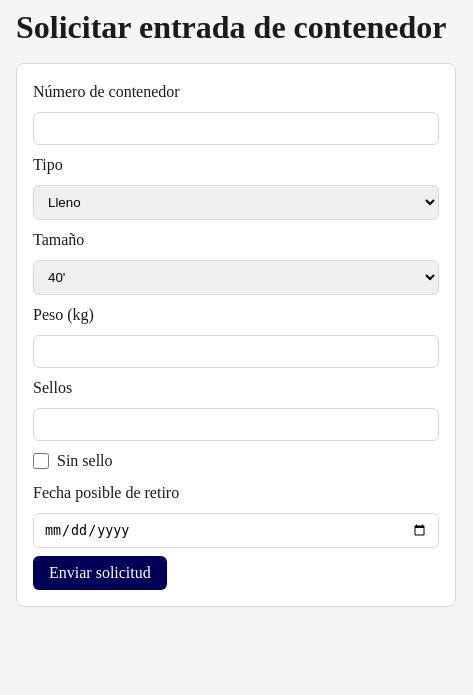
SolicitarPage › submits a solicitud with the form values
Type "CSQU3054383" into the field labelled "Número de contenedor" at (236, 128), box x1=33 y1=112 x2=439 y2=145
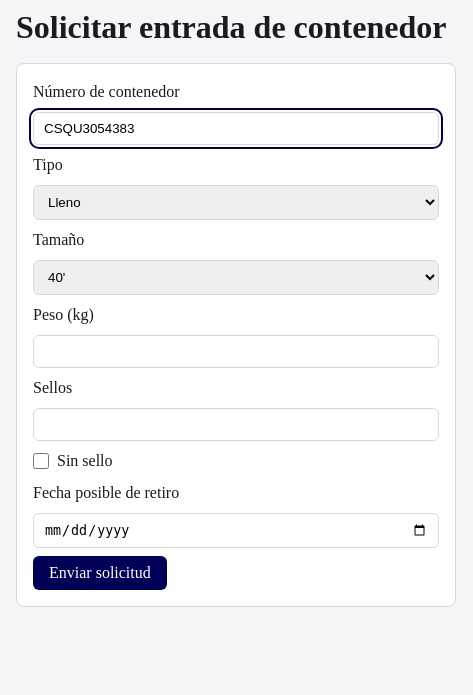
Type "18000" into the number field labelled "Peso (kg)" at (236, 352), box x1=33 y1=335 x2=439 y2=368
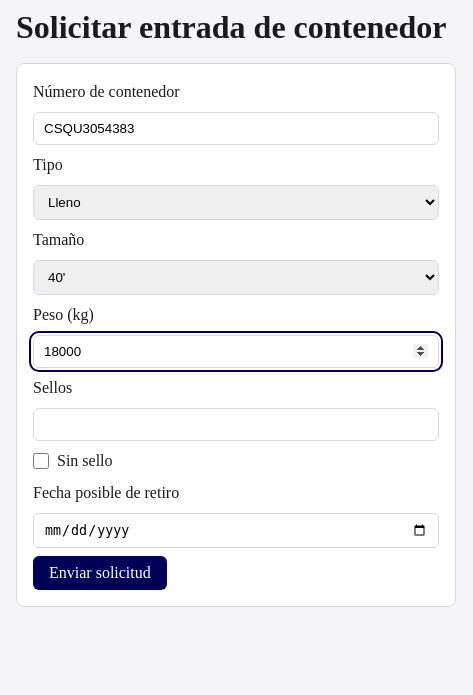
Click the button "Enviar solicitud" at (100, 573), box x1=33 y1=556 x2=167 y2=590
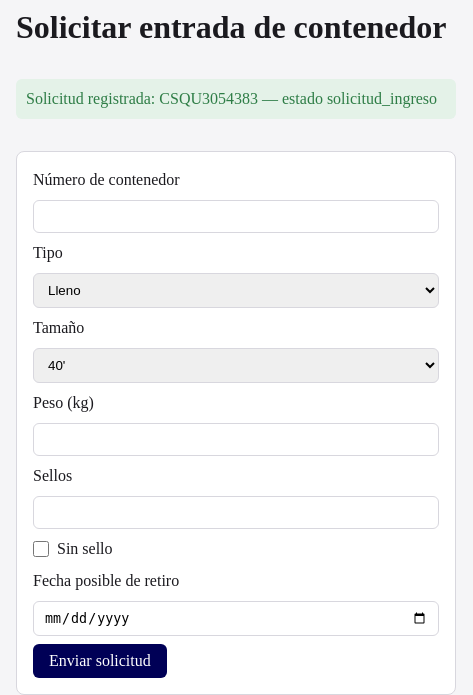
Check: the text "Solicitud registrada: CSQU3054383 — estado solicitud_ingreso" is shown, box x1=16 y1=79 x2=456 y2=119
